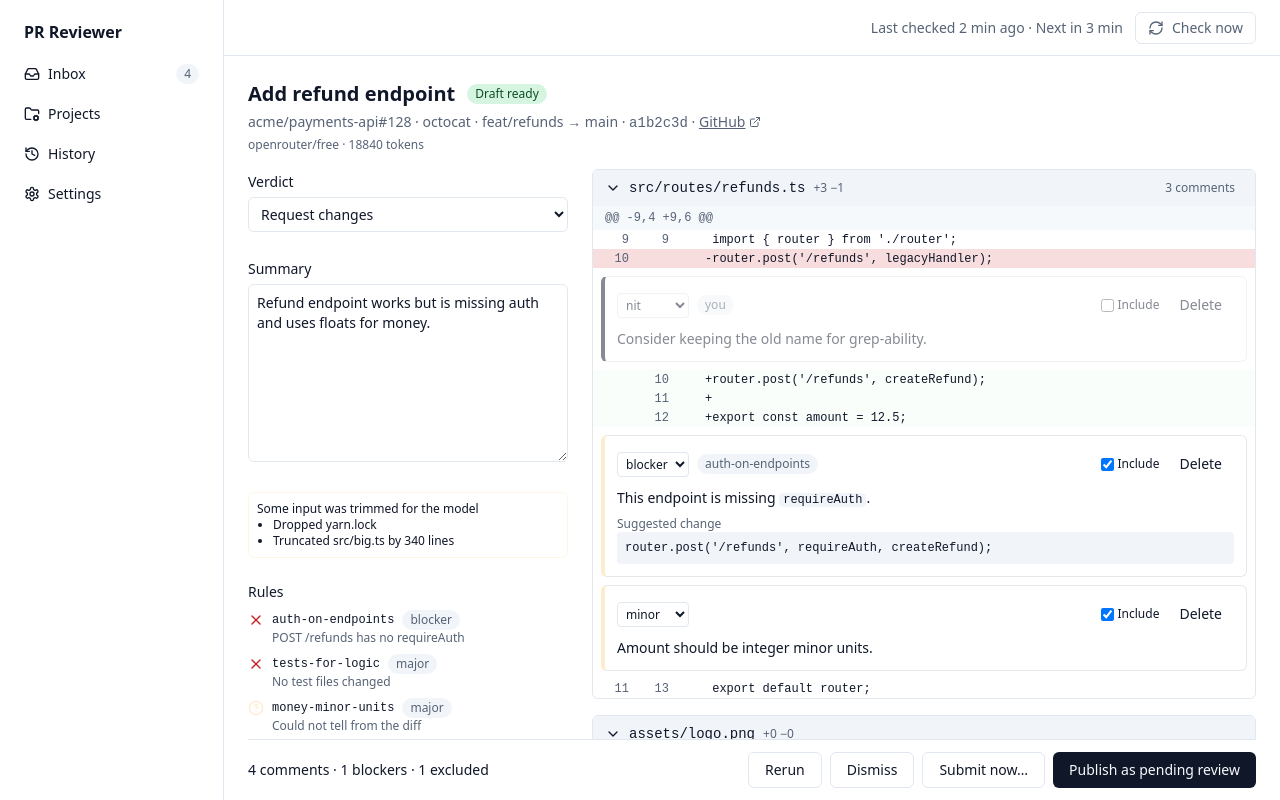
Scenario: Publish flow › never submits without confirmation, and the dialog repeats verdict and comment count
The image size is (1280, 800).
Click the button "Submit now…" at [984, 770], box [922,752,1045,788]
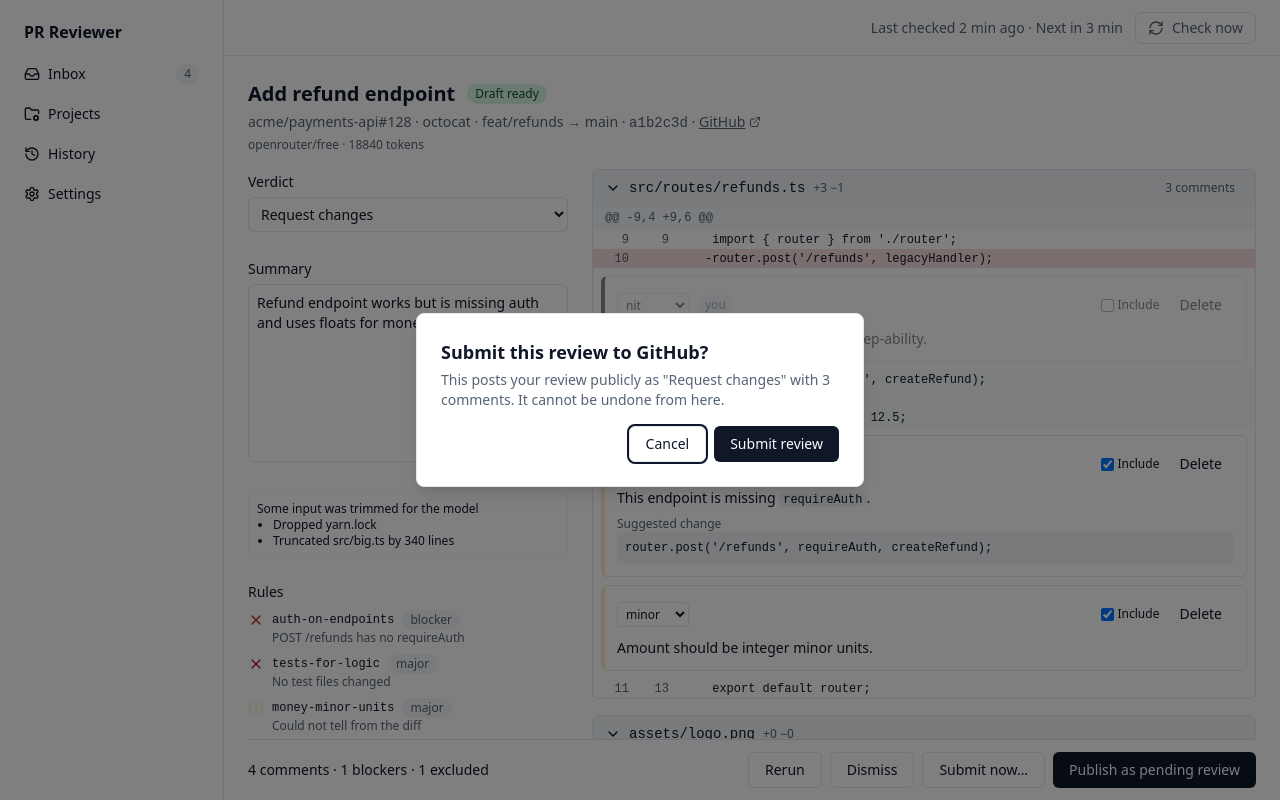
Expected: the dialog shows "Request changes", [441,370,830,409]
Expected: the dialog shows "3 comments", [441,370,830,409]
Click the button "Cancel" at [667, 444], box [629,426,706,462]
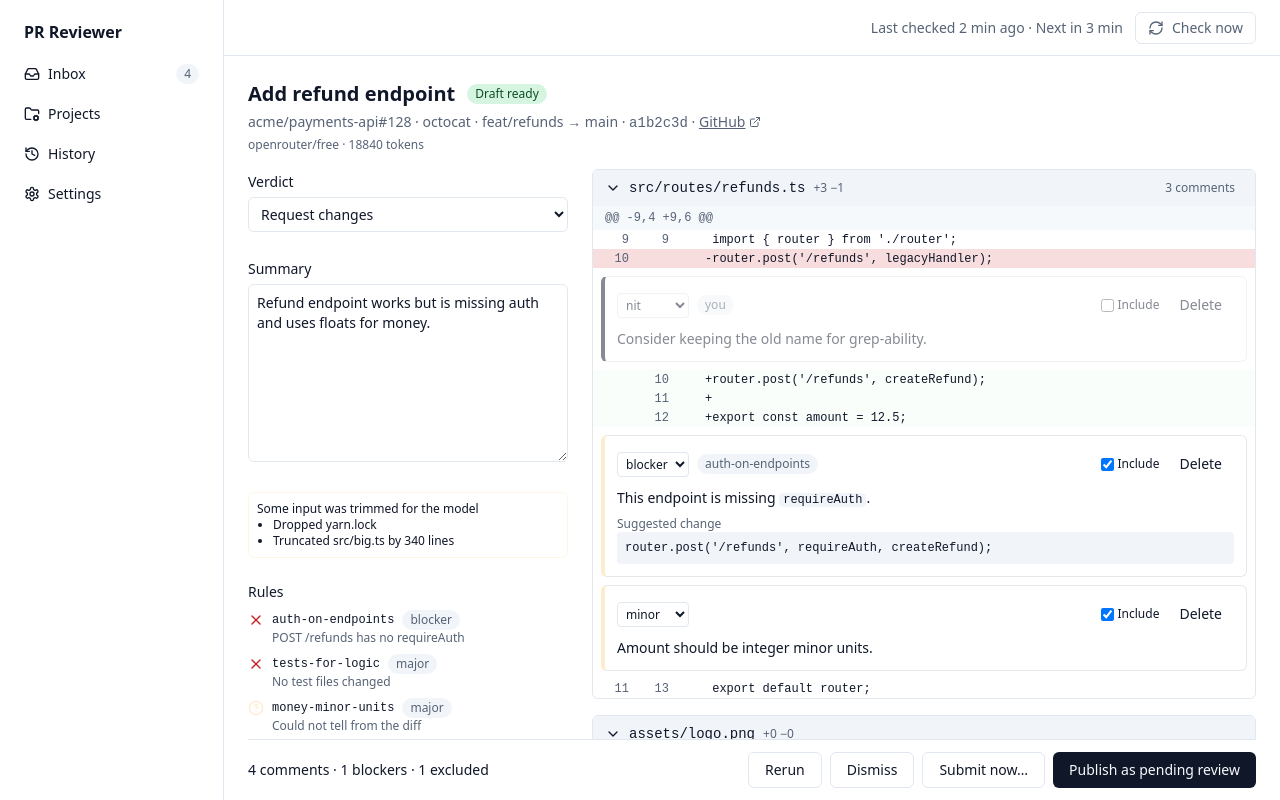
Click the button "Submit now…" at [984, 770], box [922,752,1045,788]
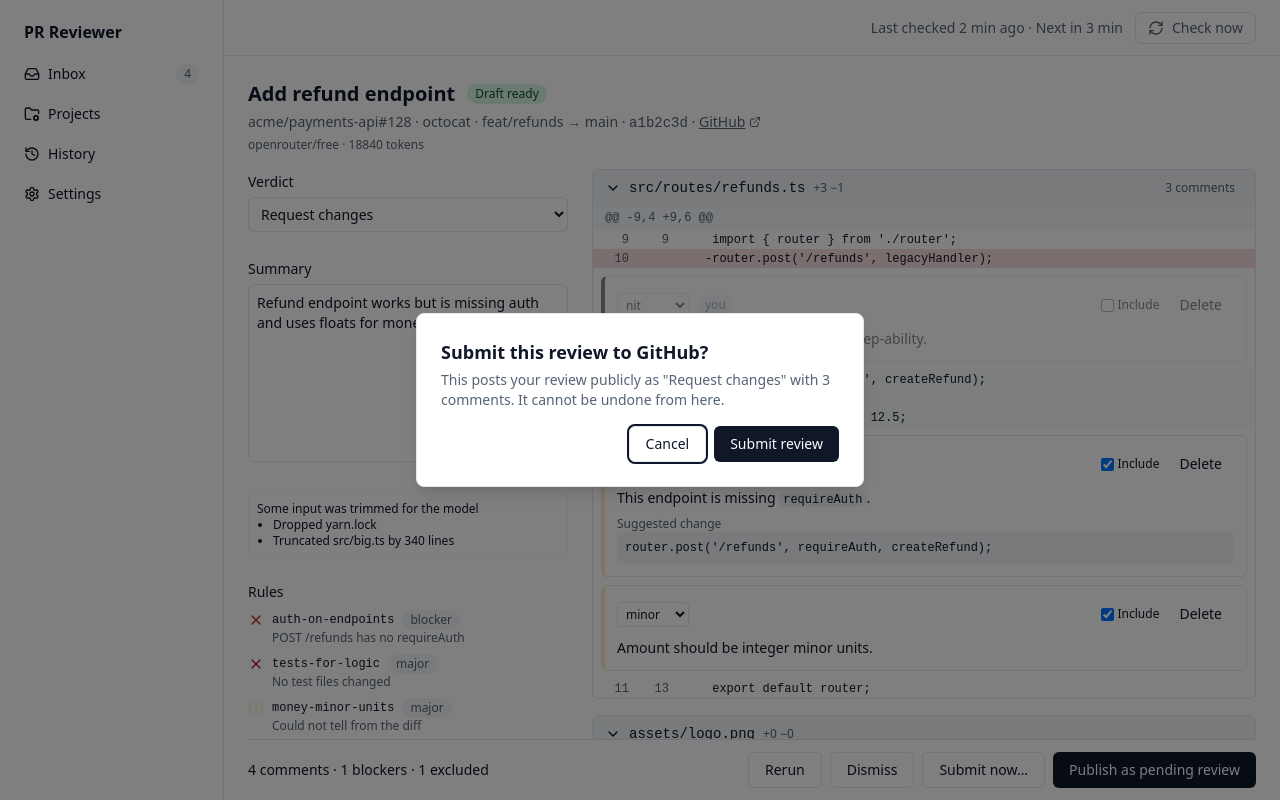
Click the button "Submit review" at [777, 444], box [714,426,839,462]
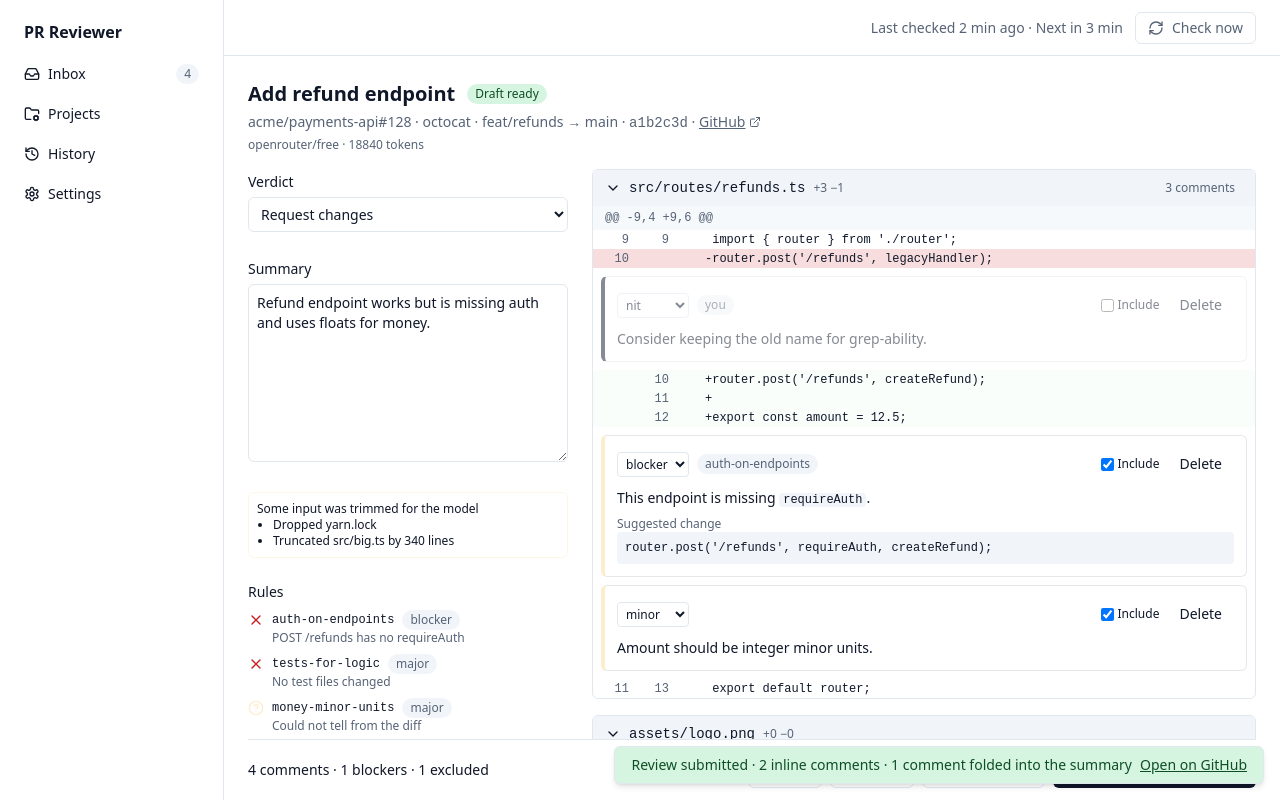
Expected: the text "Review submitted" is shown, [631,755,1132,774]
